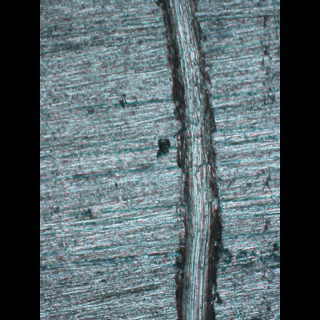d: (153, 0, 224, 319)
